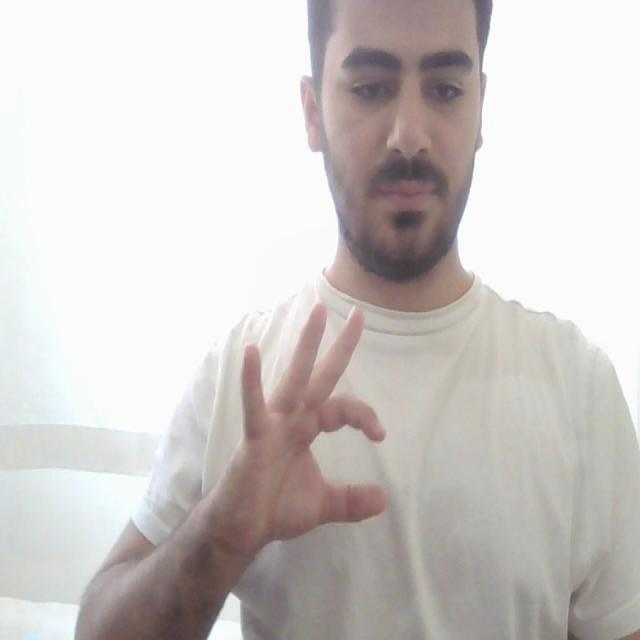Tuvalet: (178, 277, 410, 577)
